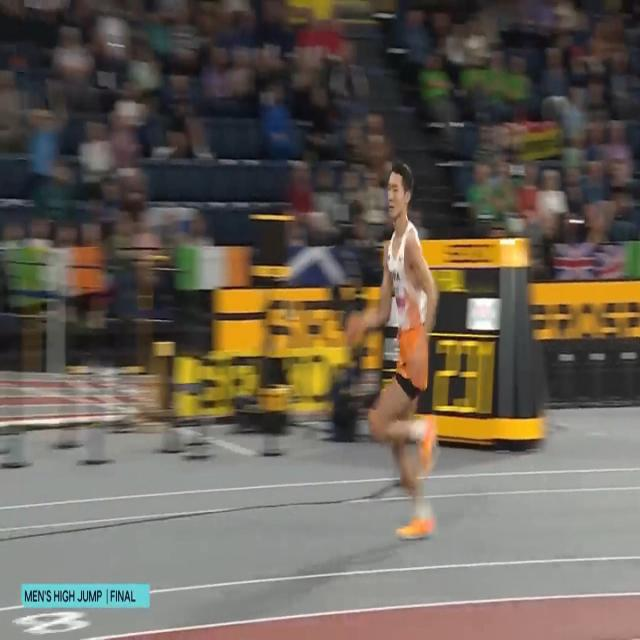run: (346, 156, 440, 542)
